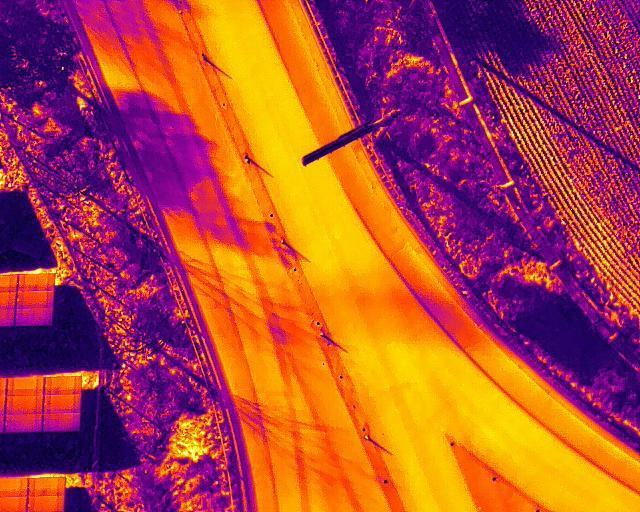No-Anomaly: (4, 377, 46, 396), (43, 394, 82, 413), (3, 396, 42, 415), (44, 375, 82, 394), (28, 477, 64, 497), (18, 274, 55, 292), (13, 309, 51, 326), (17, 292, 54, 309), (41, 415, 80, 431), (4, 415, 42, 431), (26, 496, 64, 511)
